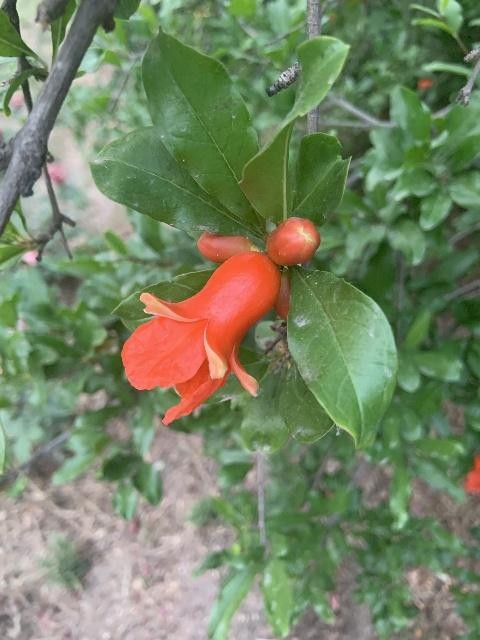bud: (266, 216, 320, 266), (197, 231, 255, 263), (272, 272, 290, 320)
flower: (121, 250, 279, 425)
